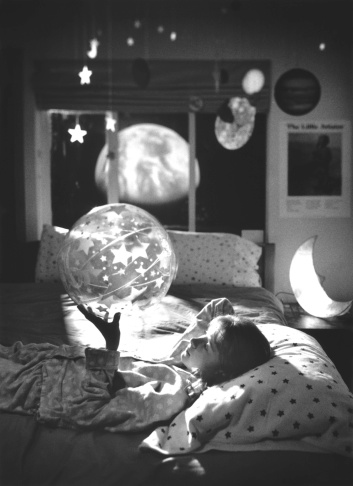deitado: (27, 308, 338, 464)
